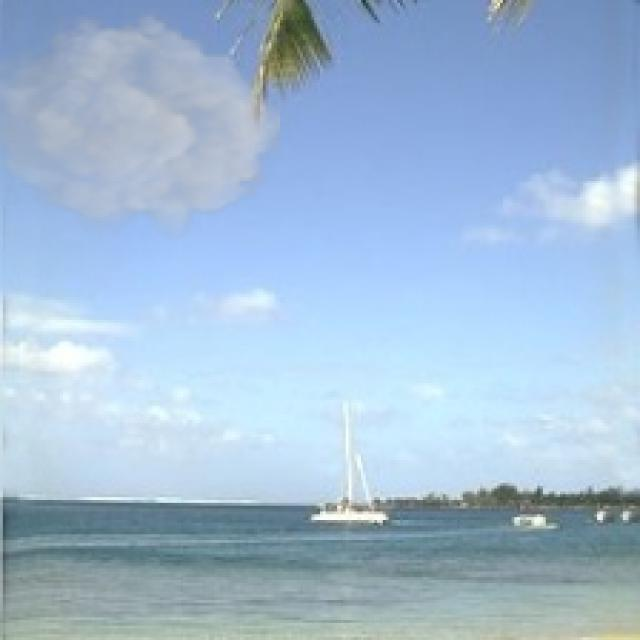smoke: (0, 6, 280, 240)
